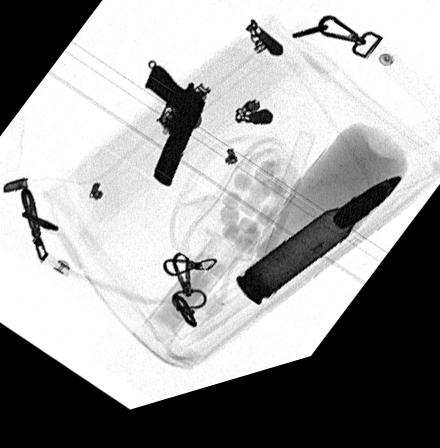Bullet: (232, 199, 403, 322)
Gun: (143, 73, 204, 197)
